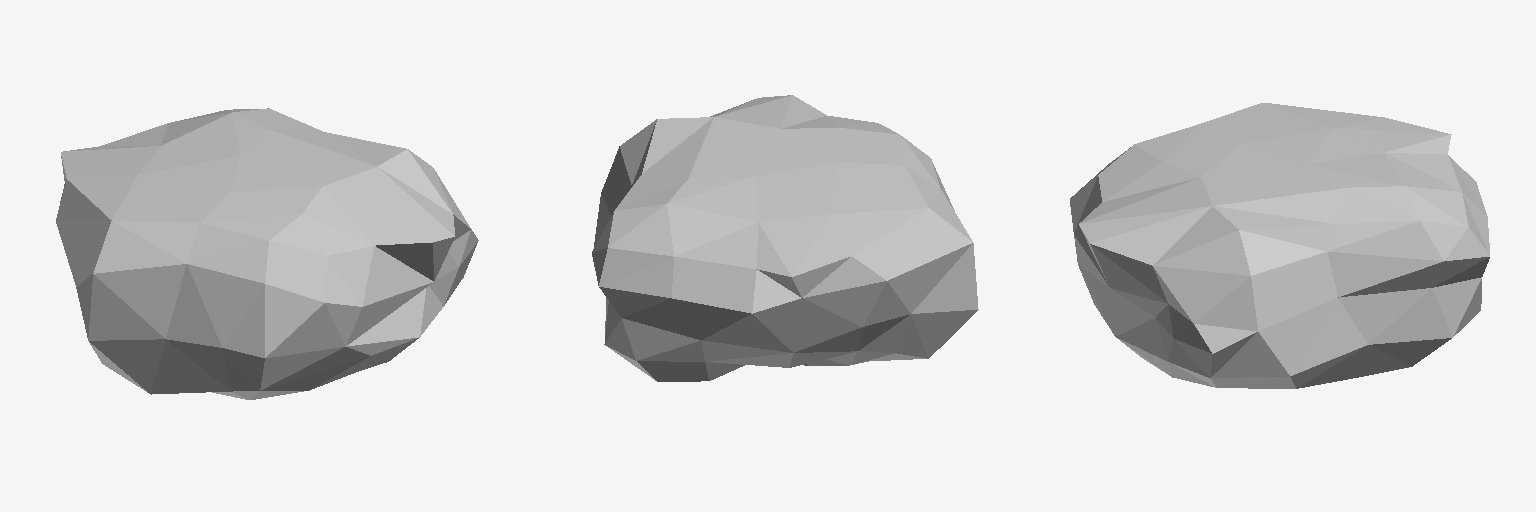
File: rock-2-m.obj
3 views of the same model, side by side, from view 1: azimuth 30°, elevation 25°; view 2: azimuth 150°, elevation 25°; view 3: azimuth 270°, elevation 25° (orthographic).
Parts seen in each view (by area): view 1: Rock1_Mesh1; view 2: Rock1_Mesh1; view 3: Rock1_Mesh1.
Part boxes in pixels (left/top/right/bottom): Rock1_Mesh1: left=56, top=108, right=478, bottom=399; Rock1_Mesh1: left=592, top=95, right=978, bottom=381; Rock1_Mesh1: left=1070, top=103, right=1489, bottom=388.
Bounding box in the file's own units: 0.8977 × 0.4209 × 0.8648.